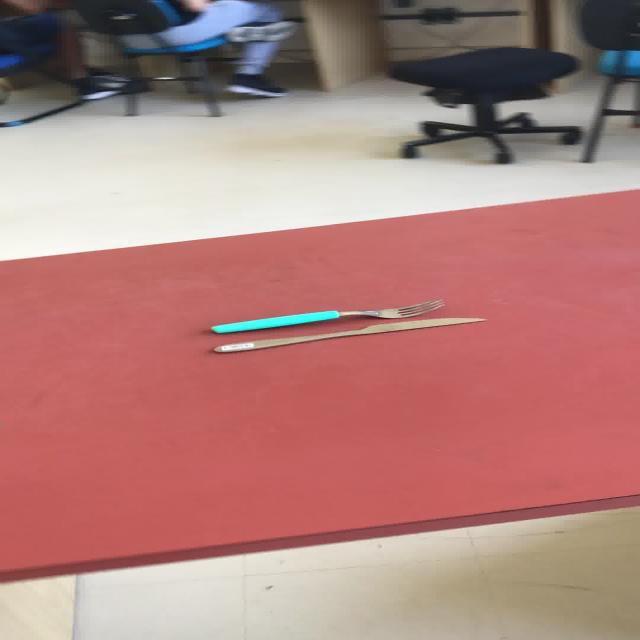fork: (208, 298, 444, 334)
knife fork: (207, 297, 488, 354), (210, 316, 487, 353)
